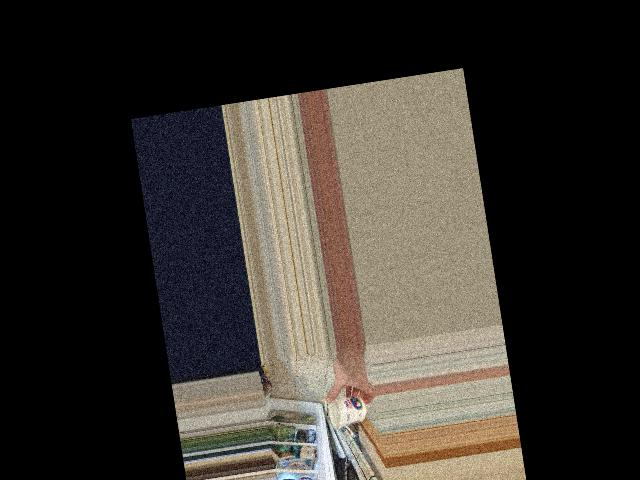cotage: (326, 391, 370, 430)
